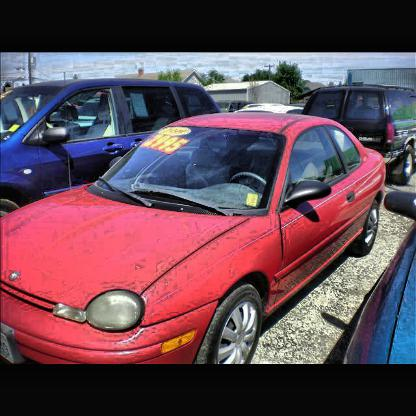Plymouth Neon Coupe 1999: (3, 112, 388, 364)
